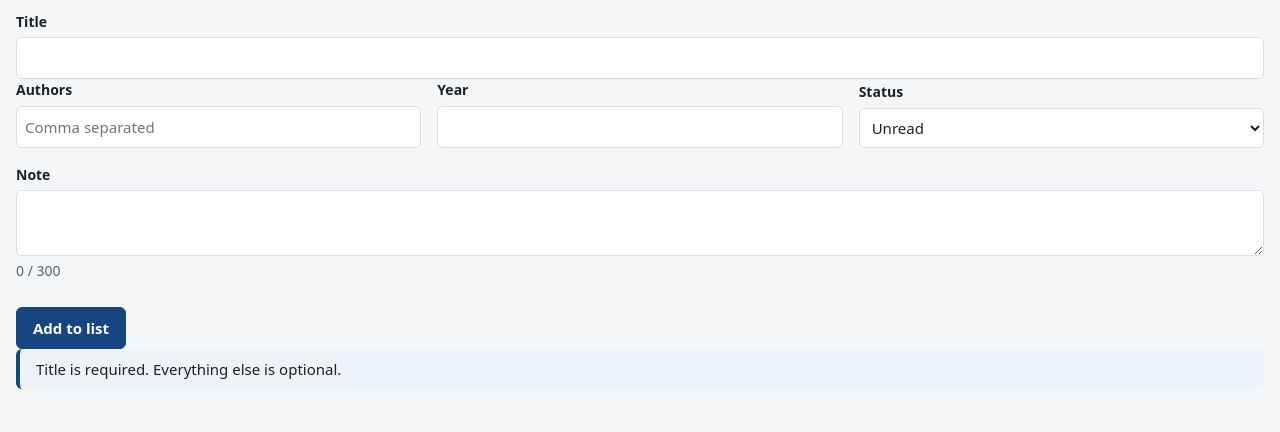
it: BookForm: validation › reports a missing title and does not submit
This screenshot has width=1280, height=432.
Click the button "Add to list" at (71, 328), box left=16, top=307, right=126, bottom=349
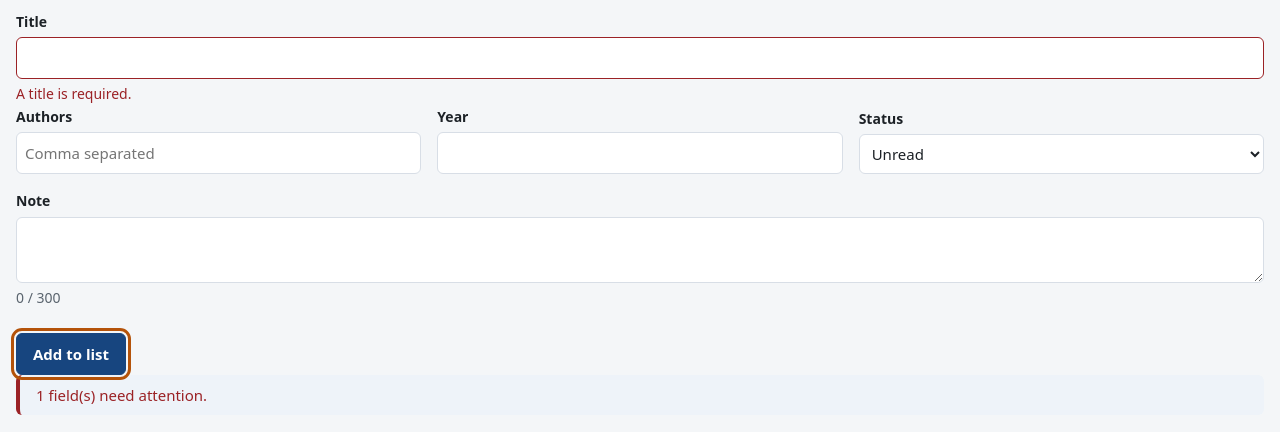
Now the text "A title is required." is shown, box left=16, top=84, right=132, bottom=103
